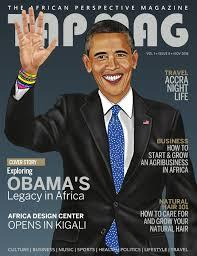Printing industry: (2, 1, 197, 256)
